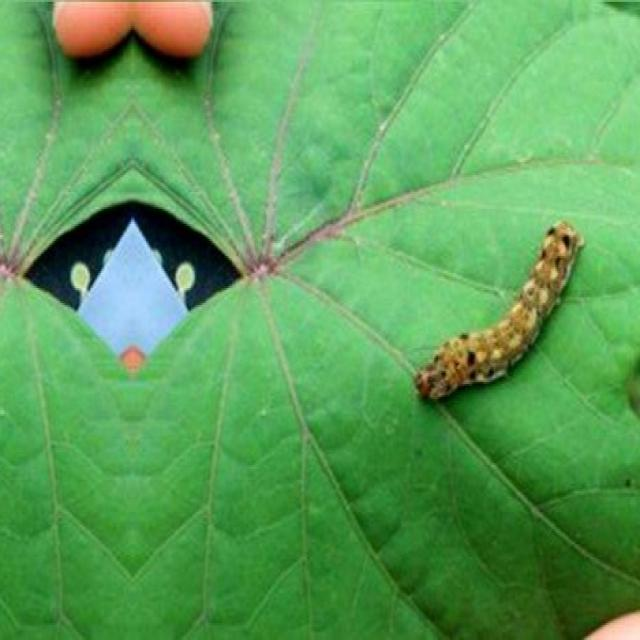Armyworm: (379, 207, 618, 420)
Armyworm_damage: (8, 101, 258, 433)
